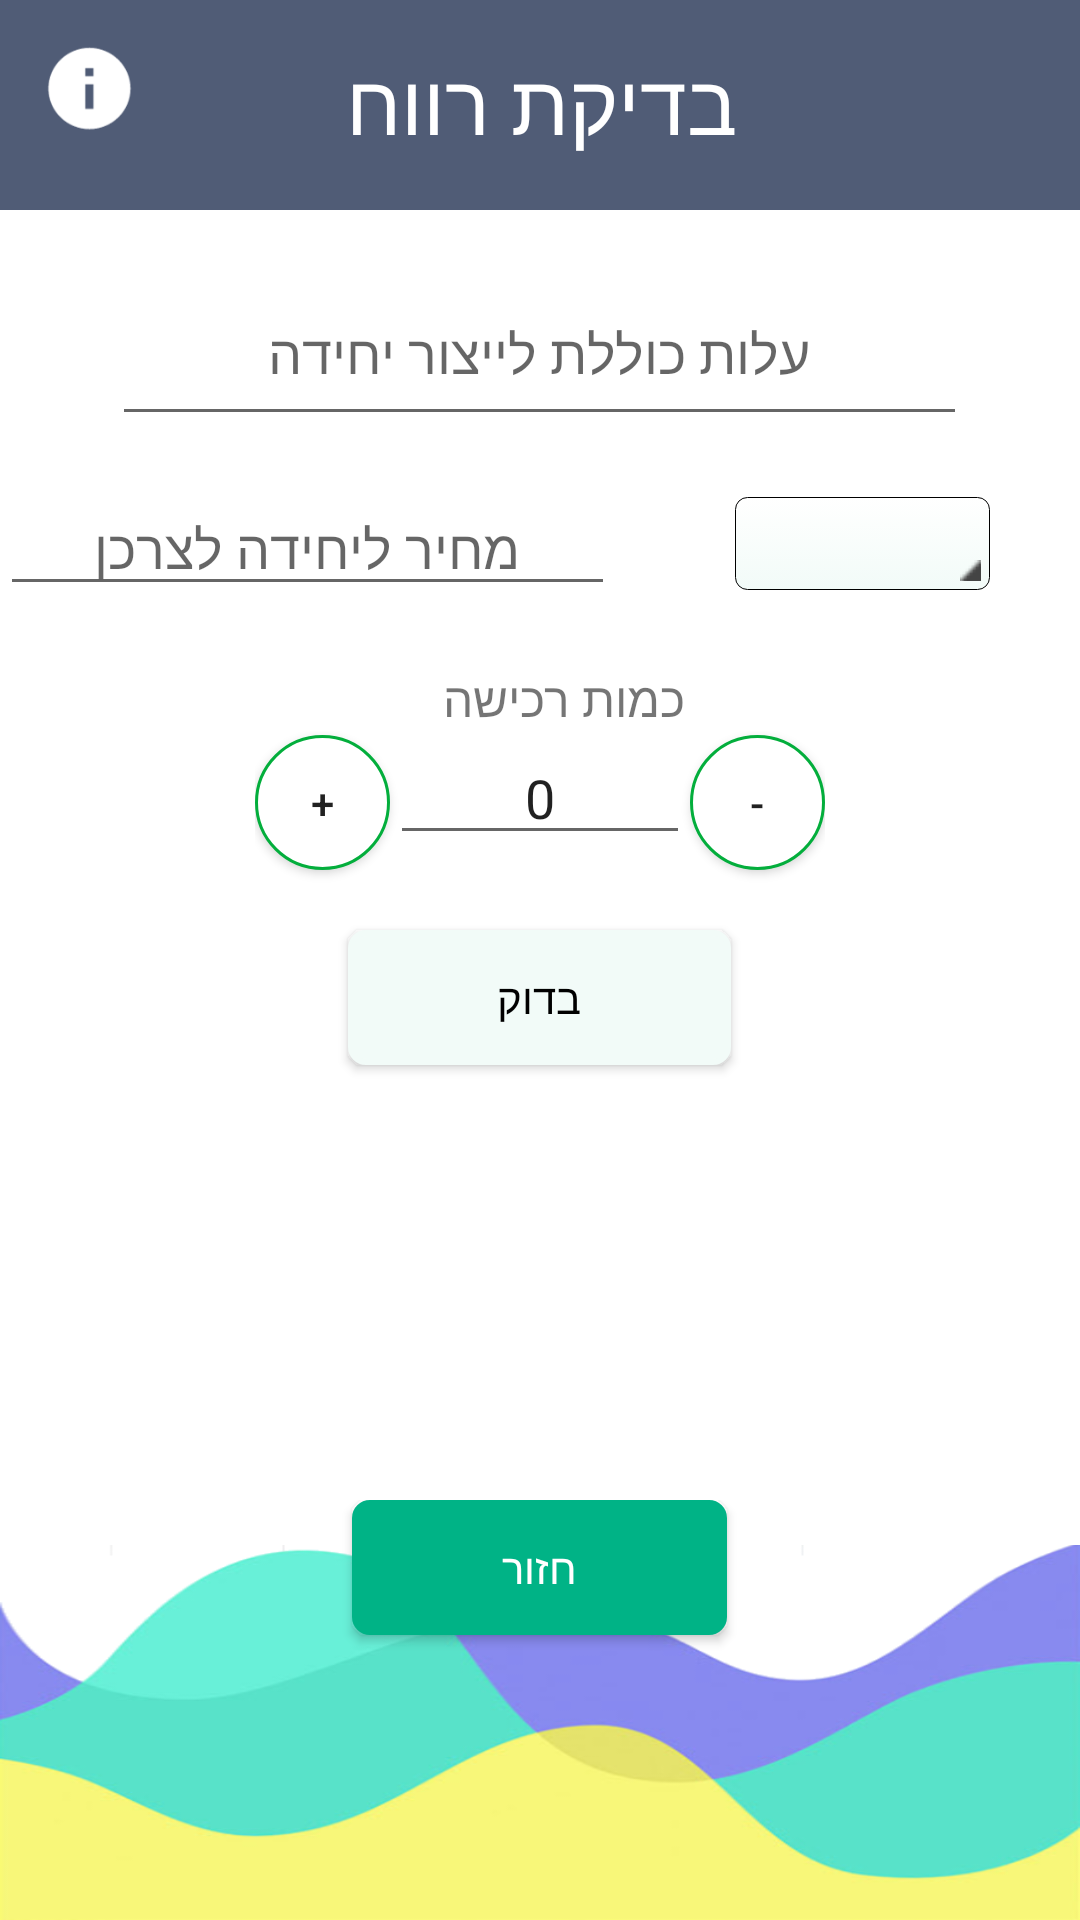

Named icons in this screenshot (1080 × 1920) and their centers, (x,y):
infor: (89,88)
